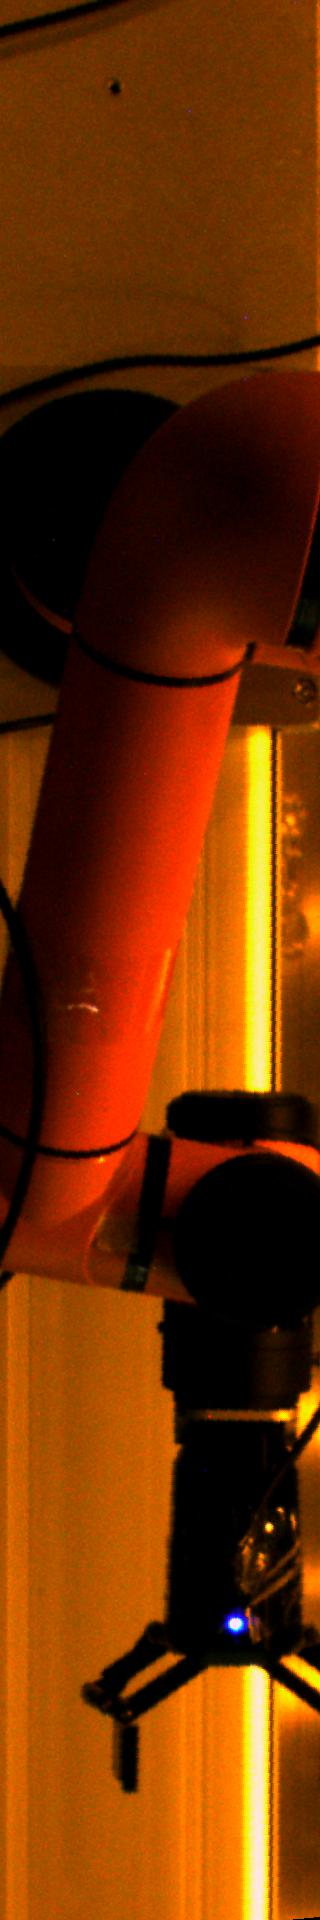keyPoint_1: (219, 1607, 250, 1636)
keyPoint_2: (99, 73, 129, 103)
